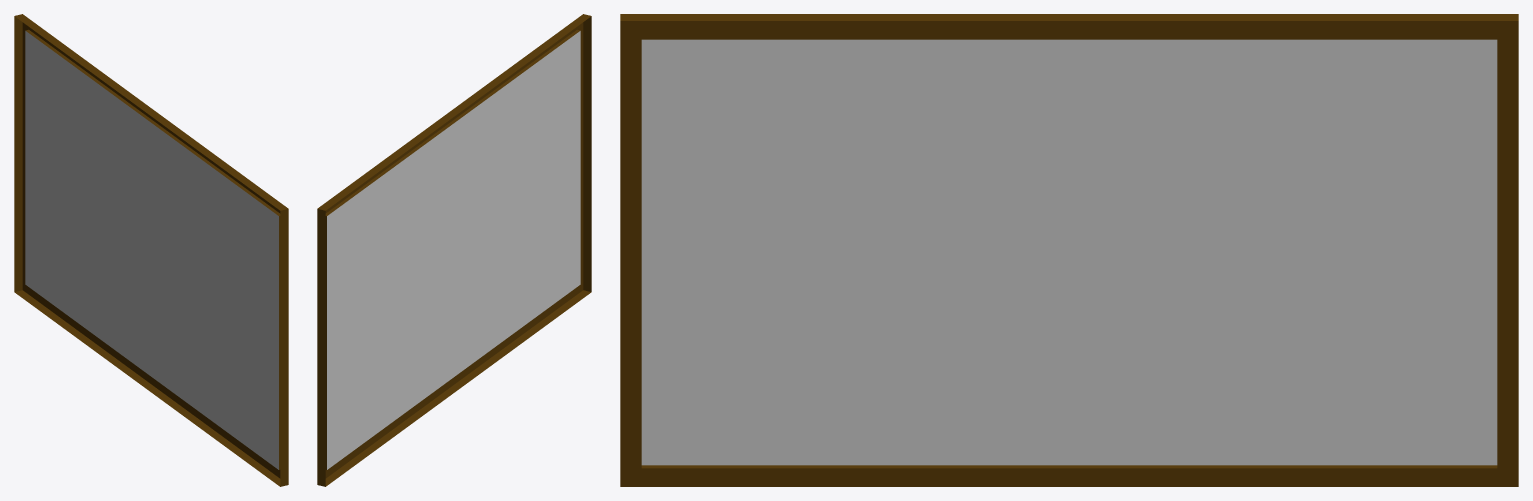
File: display board.fbx
3 views of the same model, side by side, from view 1: azimuth 30°, elevation 25°; view 2: azimuth 150°, elevation 25°; view 3: azimuth 270°, elevation 25° (orthographic). The views are drawn at different scales.
Visible parts, largest first — view 1: Display Board; view 2: Display Board; view 3: Display Board.
Part boxes in pixels (<box>): Display Board: <box>14,14,288,486</box>; Display Board: <box>317,14,591,486</box>; Display Board: <box>620,14,1518,486</box>.
Bounding box in the file's own units: 22.55 × 709 × 1239.
